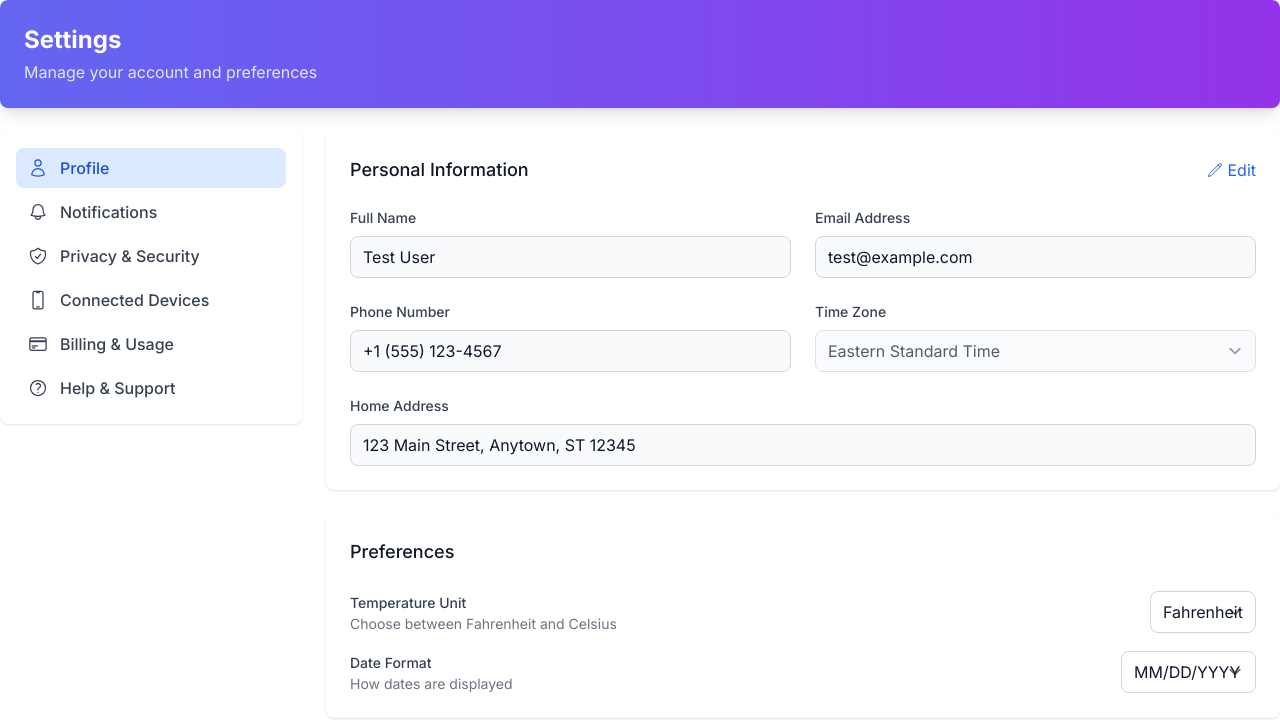
Test: ConsumerSettings › Navigation › switches to billing section when clicked
The image size is (1280, 720).
Click the button "Billing & Usage" at (151, 344), box x1=16 y1=324 x2=286 y2=364
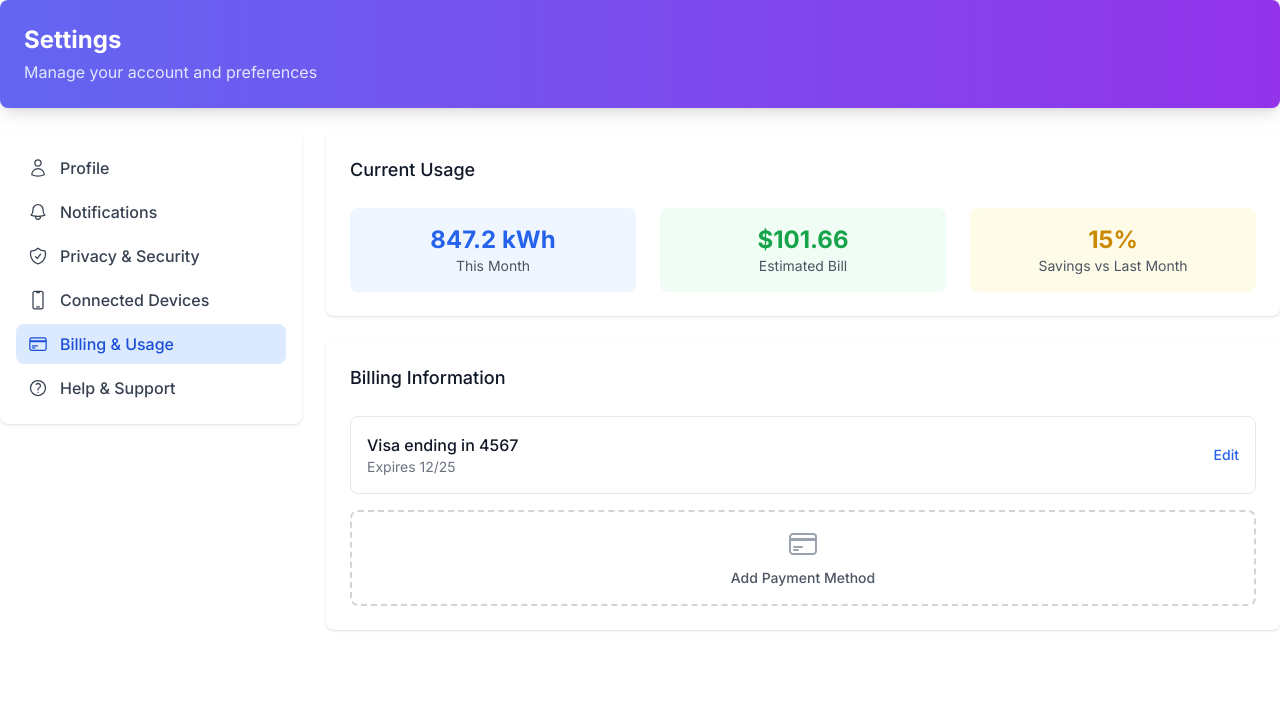
Now the heading "Current Usage" is shown, box x1=350 y1=159 x2=475 y2=180
Now the heading "Billing Information" is shown, box x1=350 y1=367 x2=506 y2=388
